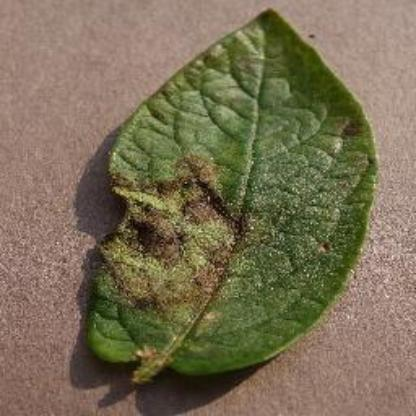Late-Blight: (84, 8, 376, 394)
